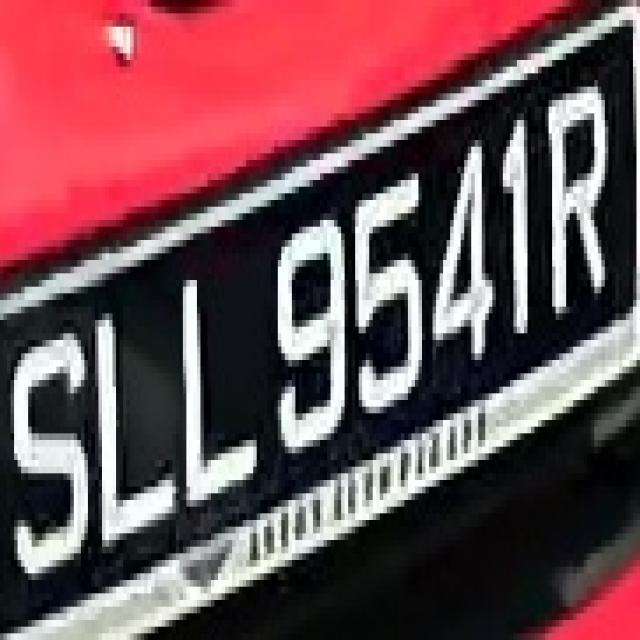1: (482, 80, 538, 347)
4: (422, 126, 499, 406)
5: (348, 167, 429, 420)
9: (260, 206, 348, 486)
L: (151, 254, 264, 514), (84, 287, 180, 560)
R: (542, 60, 622, 333)
S: (3, 286, 88, 606)
